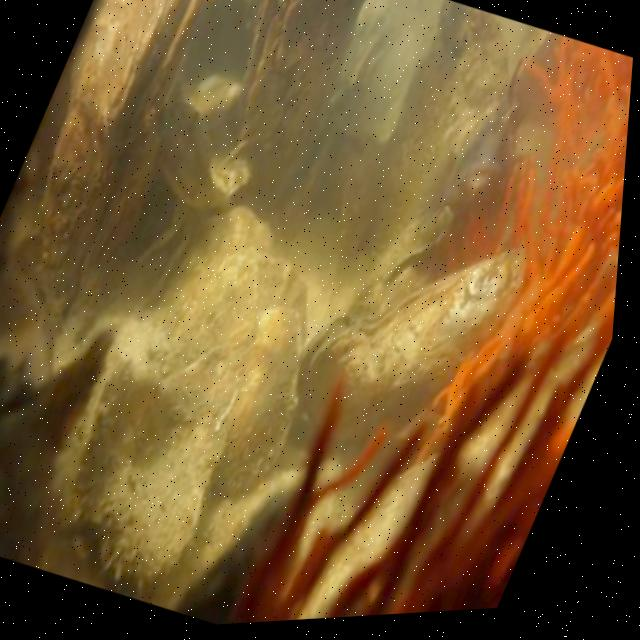Oyster-Closed: (34, 0, 204, 321), (295, 249, 528, 455)
Oyster-Indeterminate: (339, 5, 507, 262), (155, 251, 309, 502), (158, 208, 276, 331)
Oyster-Open: (237, 0, 369, 211)
